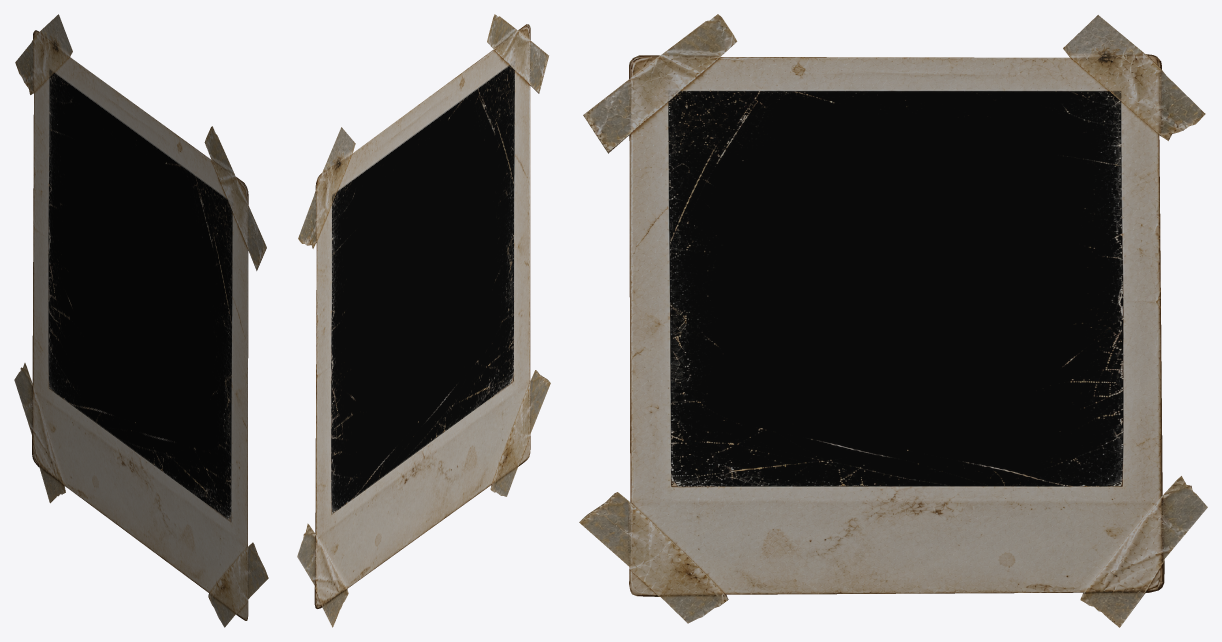
File: film.glb
The picture shows the model from 3 angles, left to right: view 1: azimuth 30°, elevation 25°; view 2: azimuth 150°, elevation 25°; view 3: azimuth 270°, elevation 25°; orthographic projection. The views are drawn at different scales.
Parts seen in each view (by area): view 1: ChatGPT Image Sep 6, 2026, 02_36_23 PM; view 2: ChatGPT Image Sep 6, 2026, 02_36_23 PM; view 3: ChatGPT Image Sep 6, 2026, 02_36_23 PM.
Boxes of the visible parts, x1,y1,x2,y2 form: ChatGPT Image Sep 6, 2026, 02_36_23 PM: [14, 14, 268, 627]; ChatGPT Image Sep 6, 2026, 02_36_23 PM: [297, 14, 550, 627]; ChatGPT Image Sep 6, 2026, 02_36_23 PM: [579, 14, 1207, 627].
Size of the model in its own units: 6.05e-08 by 0.6161 by 0.5719.
Materials: 1 (1 with a texture image).
